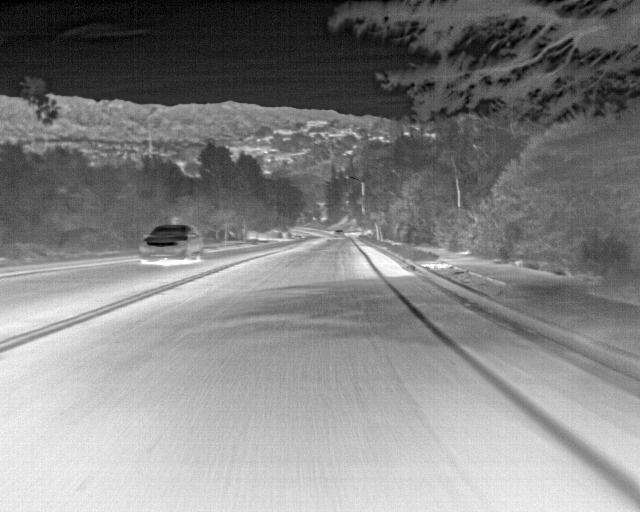car: (139, 223, 204, 266), (332, 228, 346, 240)
